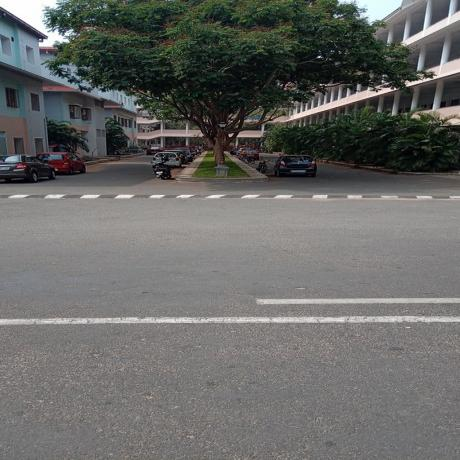Speed Bump: (2, 194, 460, 200)
